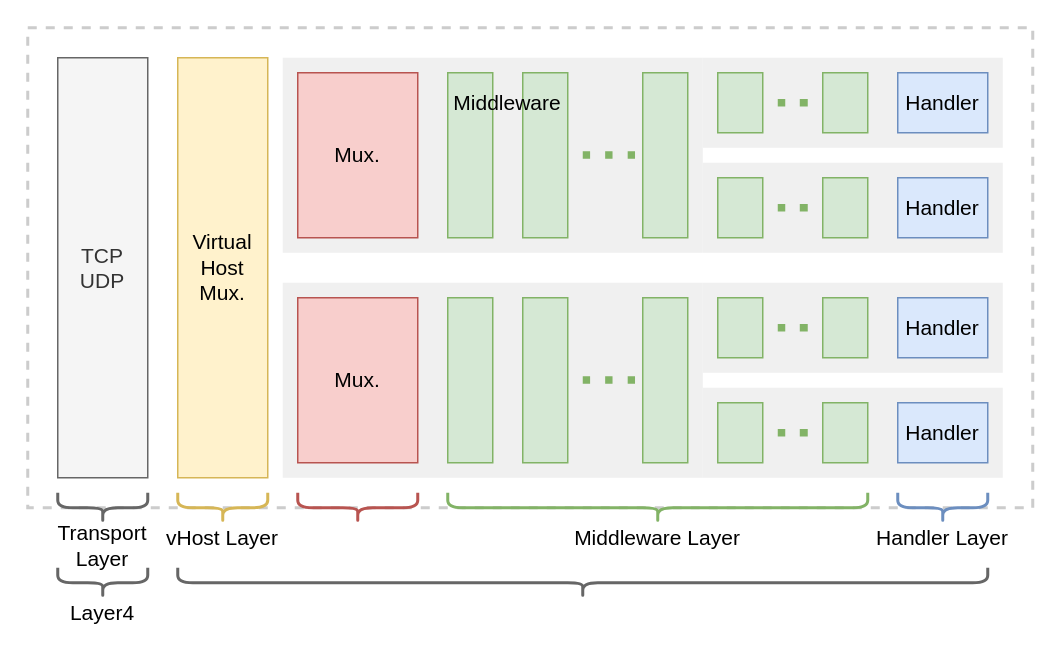
Image size: 1059x653. Some labels were removed from this diagram. The shapes that lost their labels are listed below. From the top down, each one's centre as x and y in pixels, then its label:
At point 357,507: "Mux. Layer".
At point 582,582: "Layer7".
